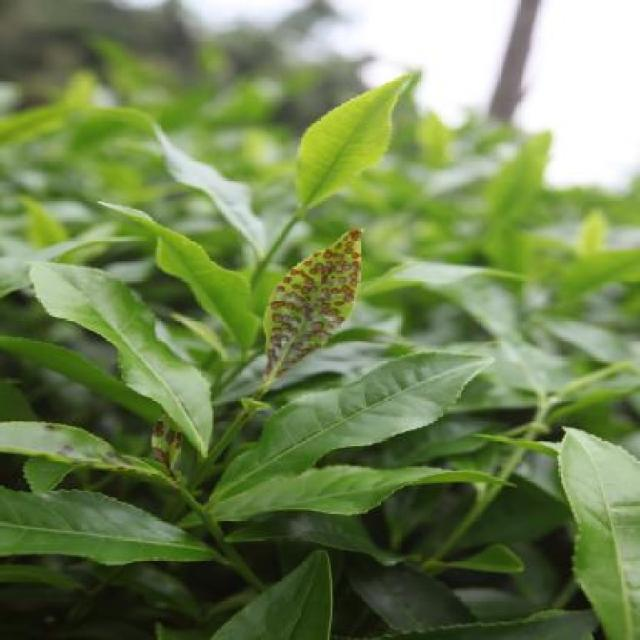Tea Mosquito bug infested leaf: (258, 218, 360, 376)
